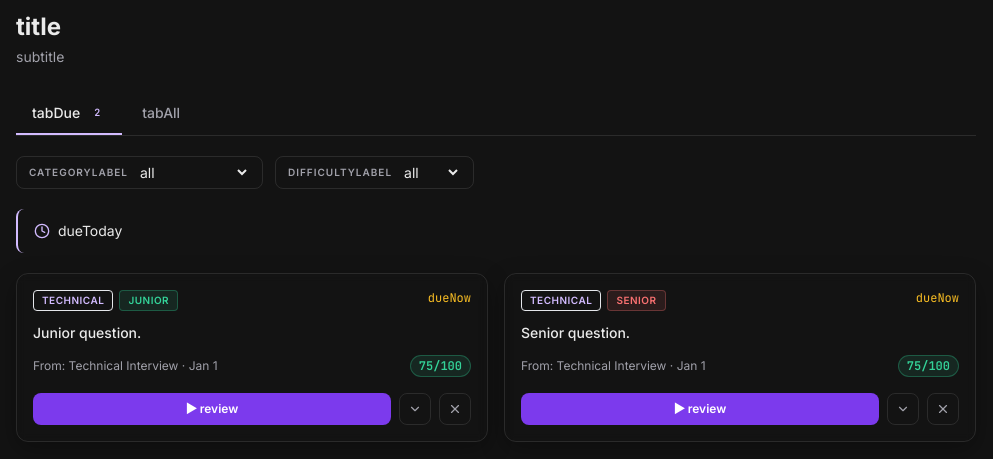
Test: BookmarksClient — difficulty filter › filters by difficulty
Click the button "tabAll": point(161, 113) [126,93,196,133]
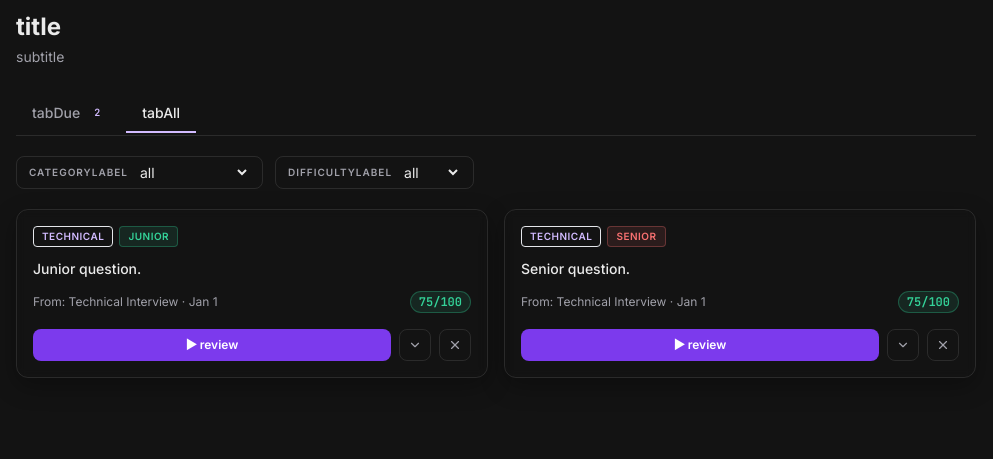
Select "senior" in the dropdown next to "difficultyLabel": point(430, 172) [400,163,461,182]
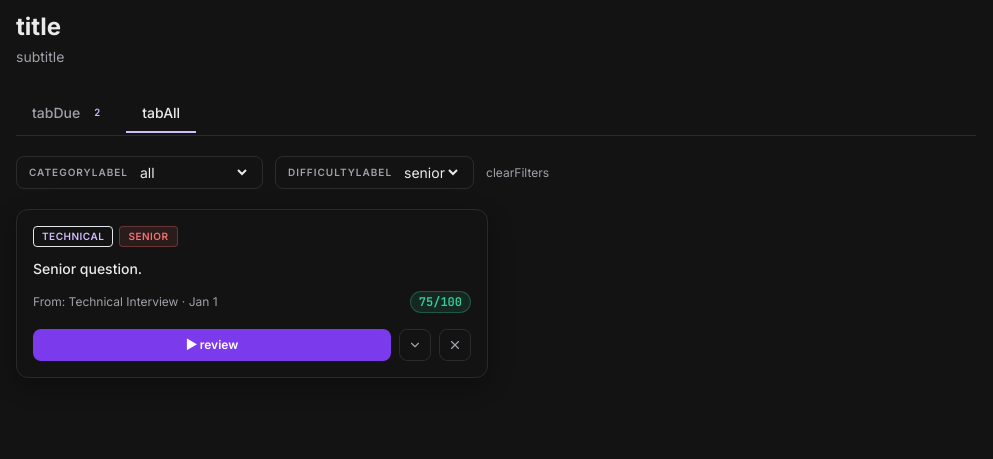
Expected: the text "Senior question." is shown, [33,260,142,277]
Expected: the text "Junior question." is gone
